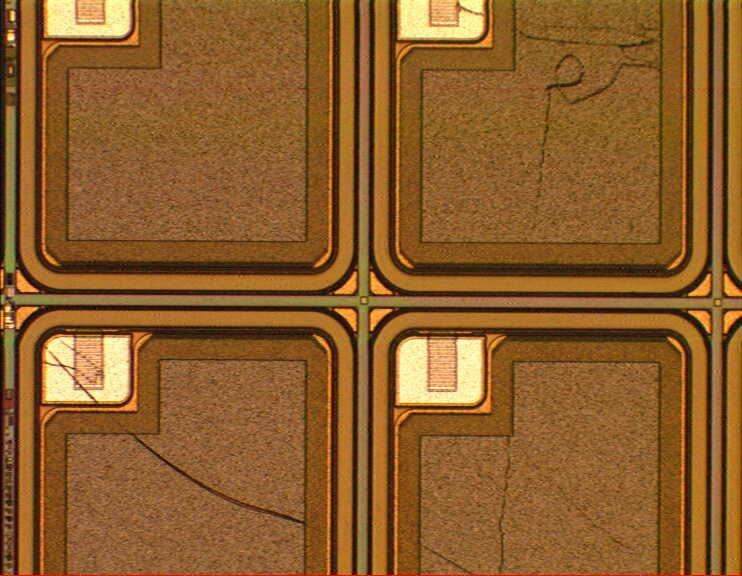SCRATCH: (1, 1, 668, 576)
